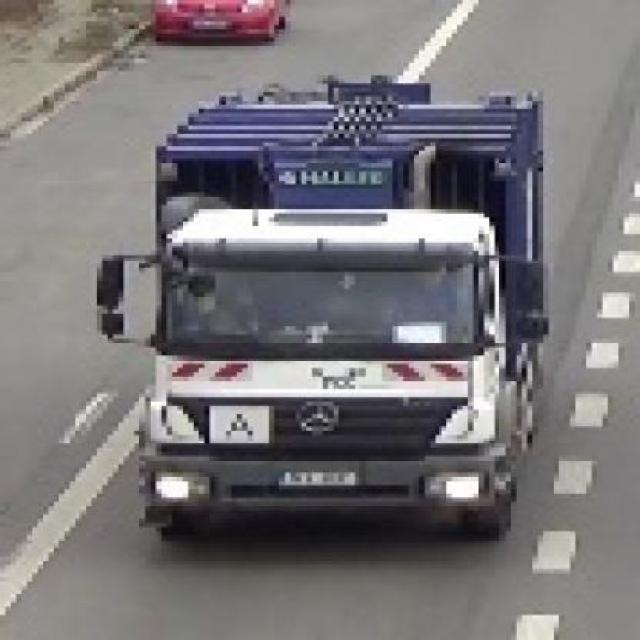truck: (97, 72, 560, 549)
